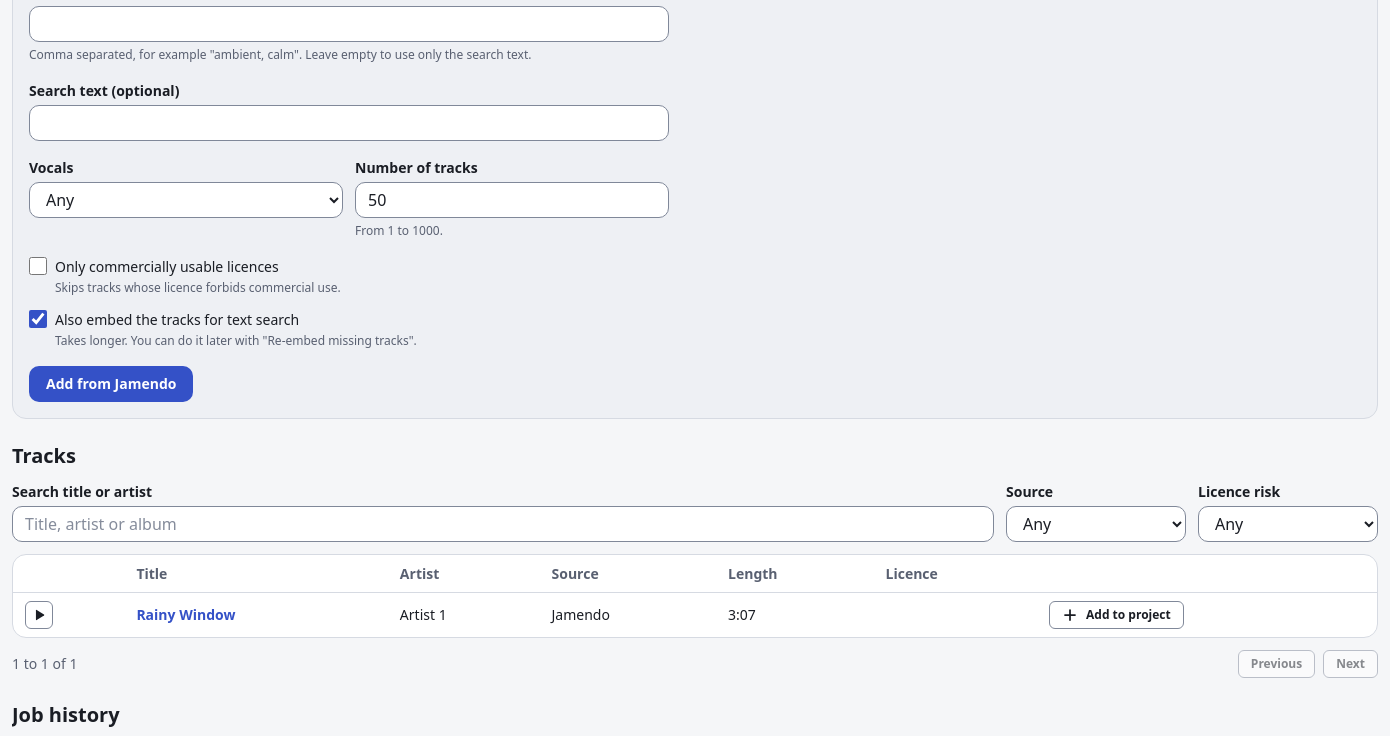
Library jobs › links to Settings when the Jamendo client id is missing (503)
(page scrolled)
What coordinates should you click on to do the following:
click the button "Add from Jamendo"
I would click on:
 (111, 384)
Its box is x1=29 y1=366 x2=193 y2=402.
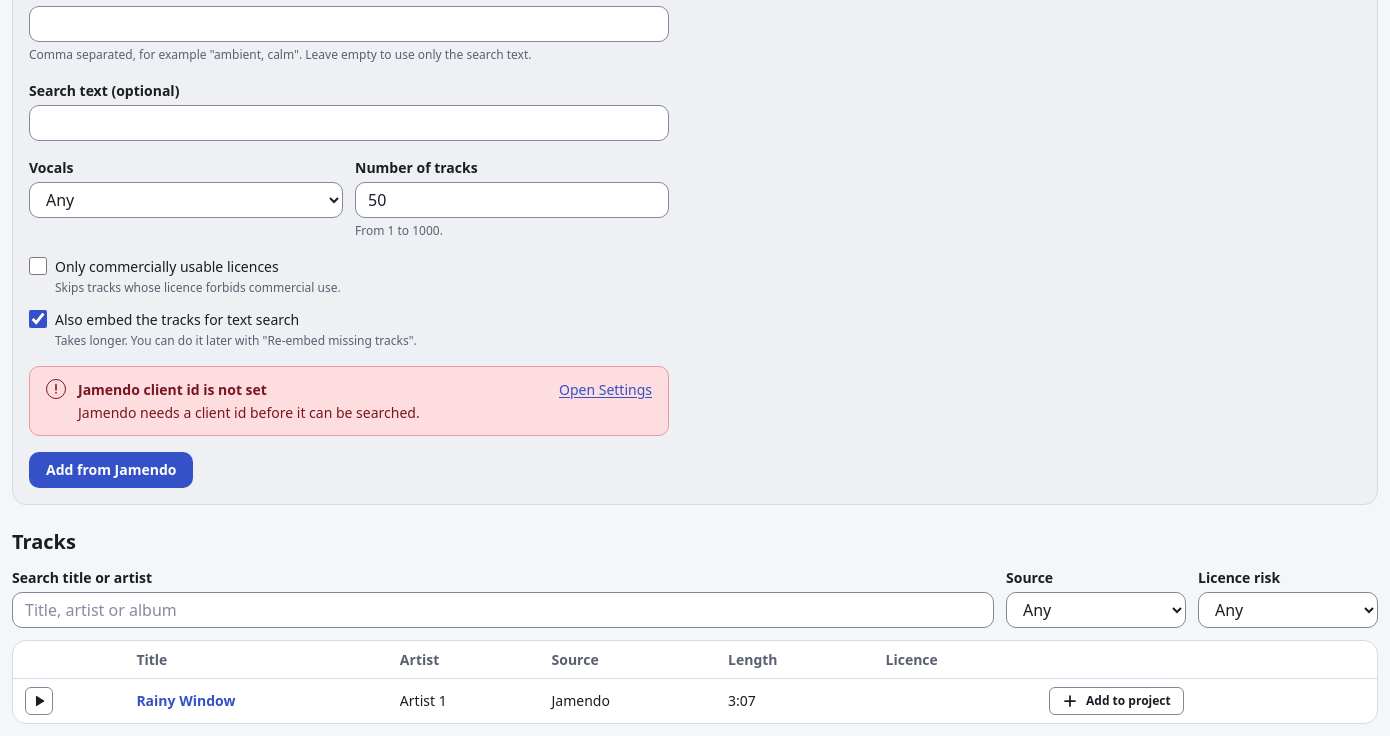
Check: the message shows "Jamendo client id is not set", box x1=78 y1=380 x2=267 y2=398
